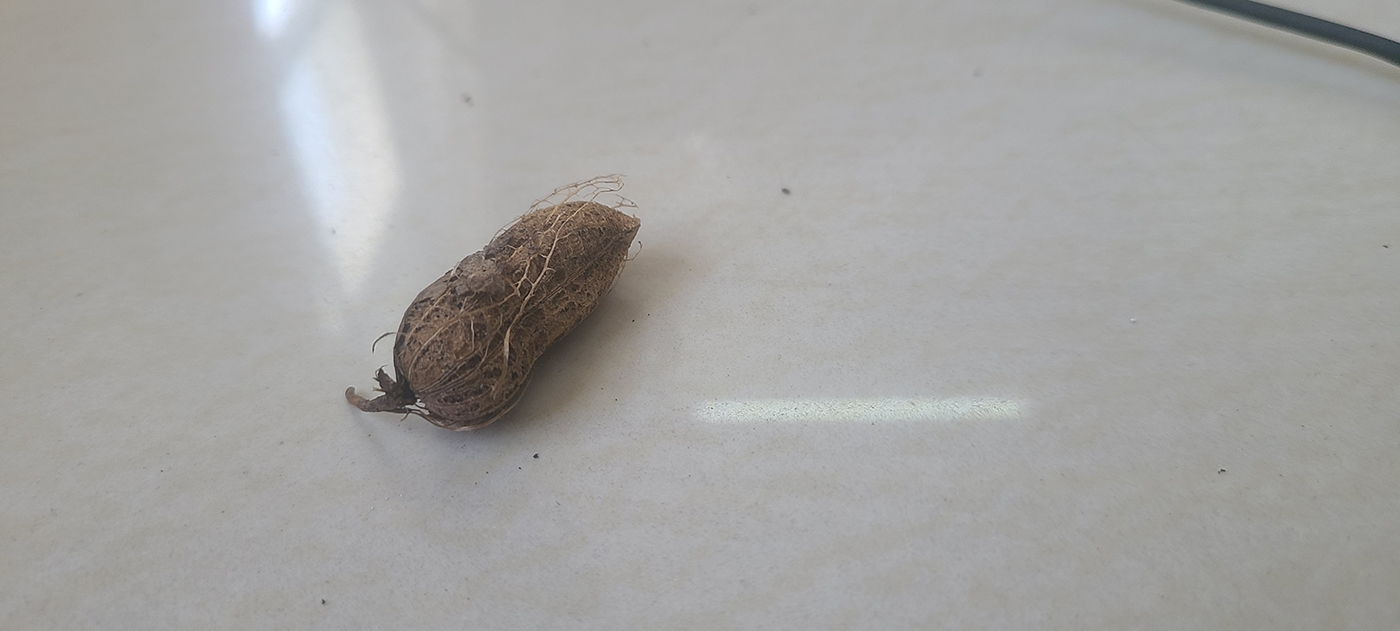l: (393, 201, 638, 427)
